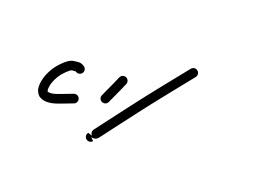i: (95, 78, 130, 107)
o: (28, 49, 89, 114)
t: (82, 58, 209, 154)
